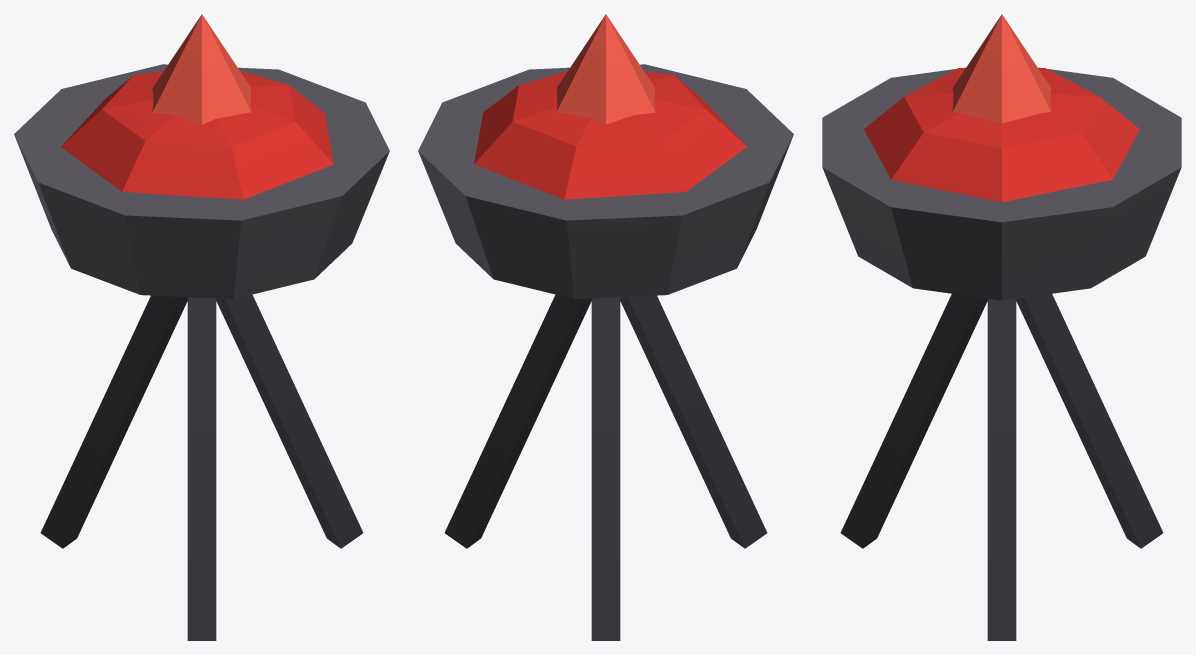
File: forge_brazier.glb
3 views of the same model, side by side, from view 1: azimuth 30°, elevation 25°; view 2: azimuth 150°, elevation 25°; view 3: azimuth 270°, elevation 25° (orthographic).
Parts seen in each view (by area): view 1: forge_brazier; view 2: forge_brazier; view 3: forge_brazier.
Boxes of the visible parts, x1,y1,x2,y2 form: forge_brazier: [14, 14, 389, 640]; forge_brazier: [418, 14, 793, 640]; forge_brazier: [822, 14, 1181, 640].
Size of the model in its own units: 0.8 by 1.31 by 0.7608.
